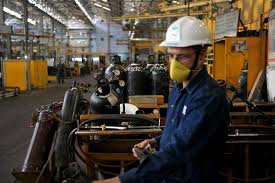Person_wearing_helmet: (155, 10, 214, 63)
